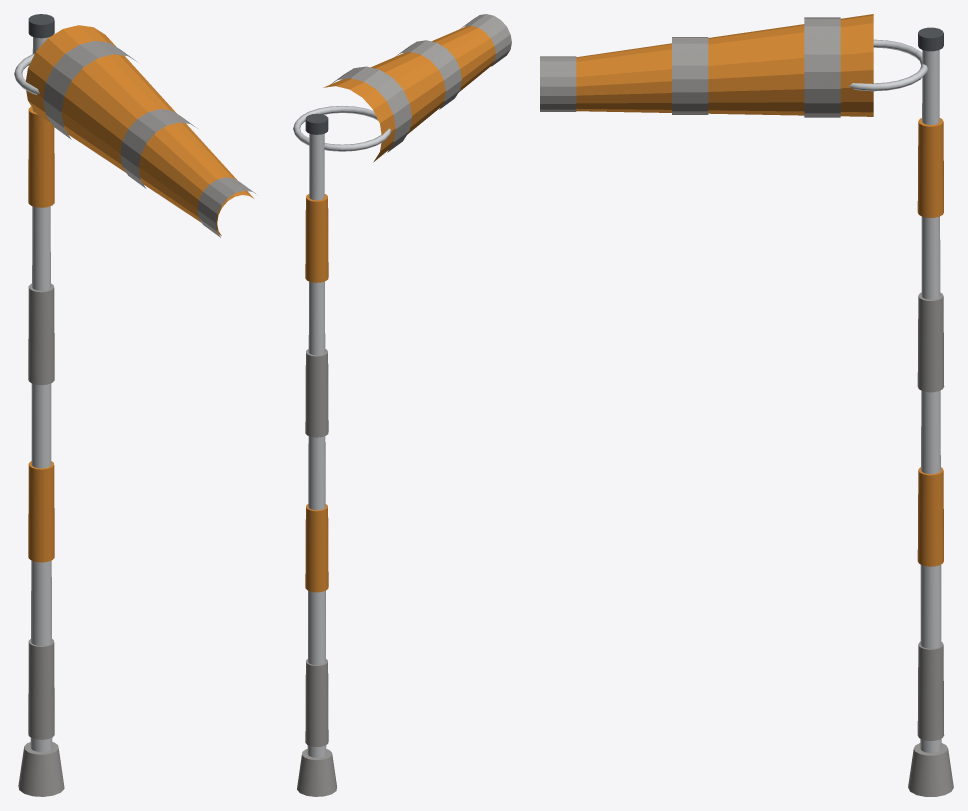
File: battle-royale-town-and-airfield-windsock-pole-b2840d02__28252.glb
3 views of the same model, side by side, from view 1: azimuth 30°, elevation 25°; view 2: azimuth 150°, elevation 25°; view 3: azimuth 270°, elevation 25° (orthographic). The views are drawn at different scales.
Parts seen in each view (by area): view 1: sock/orange, windsock-pole; view 2: windsock-pole, sock/orange, sock/steel; view 3: windsock-pole, sock/orange, sock/steel.
Boxes of the visible parts, bbox=[...] form: sock/orange: bbox=[26, 25, 253, 562]; windsock-pole: bbox=[18, 14, 256, 796]; windsock-pole: bbox=[297, 14, 511, 796]; sock/orange: bbox=[305, 26, 495, 592]; sock/steel: bbox=[293, 106, 391, 151]; windsock-pole: bbox=[540, 17, 953, 796]; sock/orange: bbox=[576, 14, 943, 566]; sock/steel: bbox=[848, 39, 927, 91].
Bounding box in the file's own units: 0.776 × 5.9 × 2.88.
Materials: 4 (1 with a texture image).
